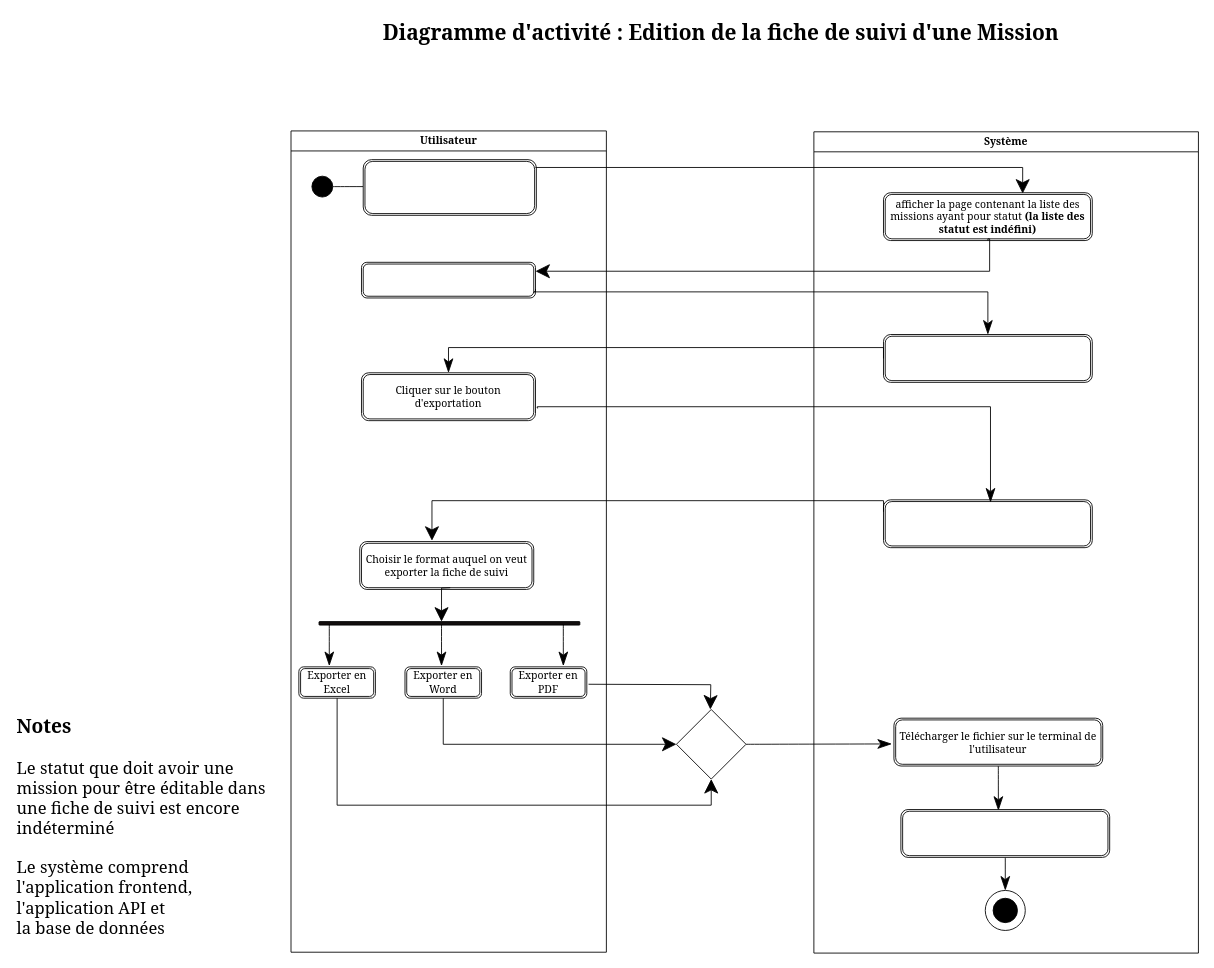
The diagram is 1214 pixels wide and 968 high, and some of its shapes have lost their labels. The shapes that lost their labels are listed below. From the top down, each one's centre as x and y in pixels, then its label:
At pixel 449 187: "Cliquer sur la fonctionnalité d'édition de fiche de suivi".
At pixel 448 279: "Sélectionner la mission à éditer".
At pixel 987 358: "Afficher la page d'édition d'une fiche de suivi avec les informations adéquates".
At pixel 987 523: "afficher la liste des formats auxquels on peut exporter la fiche".
At pixel 1005 833: "Afficher un message de succès à l'utilisateur après l'exportation".
